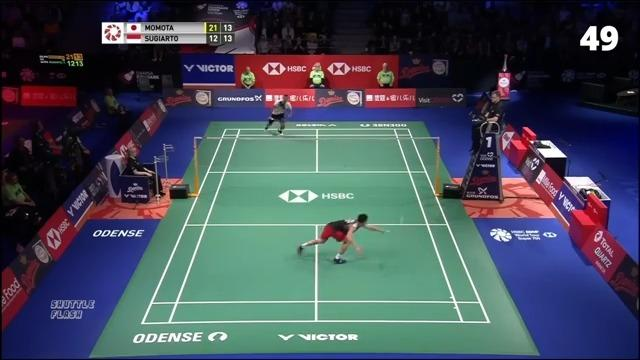Shuttlecock: (398, 217, 407, 227)
